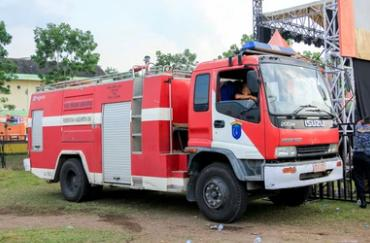vehicle: (24, 42, 343, 223)
